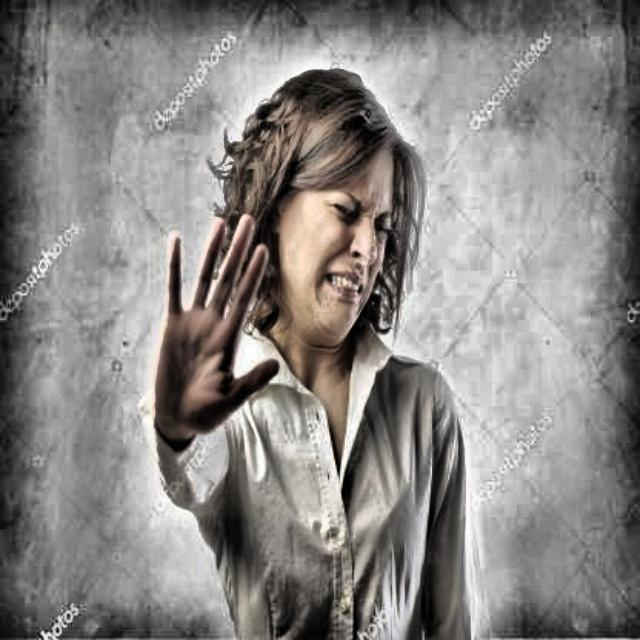disgust: (185, 46, 446, 359)
